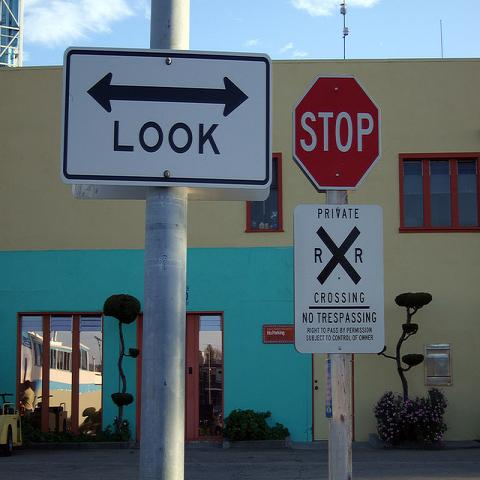car: (0, 402, 23, 456)
